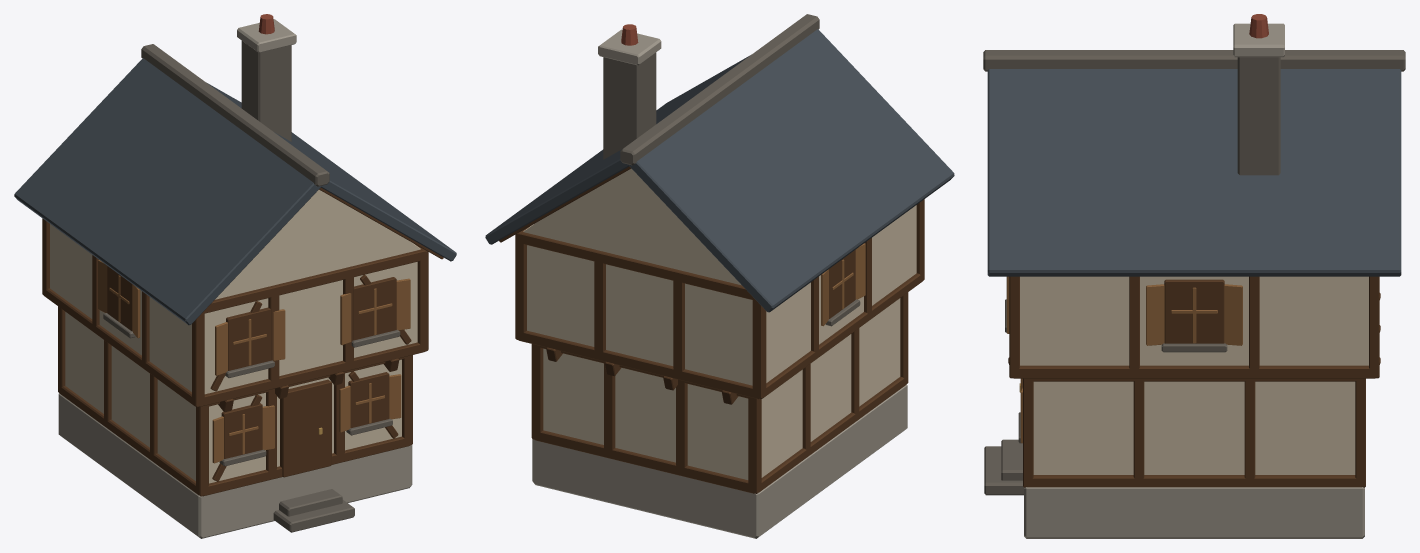
Rendered from house-timber-b.glb.
3 views of the same model, side by side, from view 1: azimuth 30°, elevation 25°; view 2: azimuth 150°, elevation 25°; view 3: azimuth 270°, elevation 25° (orthographic). The views are drawn at different scales.
Visible parts, largest first — view 1: mat_roofSlate, mat_timber, mat_plasterAlt, mat_stone, mat_stoneDark, mat_timberLight; view 2: mat_plasterAlt, mat_roofSlate, mat_timber, mat_stone, mat_stoneDark, mat_timberLight; view 3: mat_roofSlate, mat_plasterAlt, mat_timber, mat_stone, mat_stoneDark, mat_timberLight.
Boxes of the visible parts, x1,y1,x2,y2 form: mat_roofSlate: [14, 58, 456, 325]; mat_timber: [42, 188, 443, 496]; mat_plasterAlt: [50, 189, 420, 483]; mat_stone: [58, 19, 412, 538]; mat_stoneDark: [103, 41, 400, 532]; mat_timberLight: [98, 260, 410, 463]; mat_plasterAlt: [523, 168, 916, 479]; mat_roofSlate: [485, 29, 954, 312]; mat_timber: [499, 166, 924, 493]; mat_stone: [532, 29, 907, 538]; mat_stoneDark: [603, 14, 860, 326]; mat_timberLight: [821, 243, 865, 326]; mat_roofSlate: [987, 69, 1401, 276]; mat_plasterAlt: [1020, 276, 1368, 474]; mat_timber: [1008, 276, 1380, 487]; mat_stone: [1024, 23, 1364, 538]; mat_stoneDark: [983, 50, 1405, 495]; mat_timberLight: [1006, 276, 1242, 443].
Bounding box in the file's own units: 7.72 × 11.18 × 8.64.
